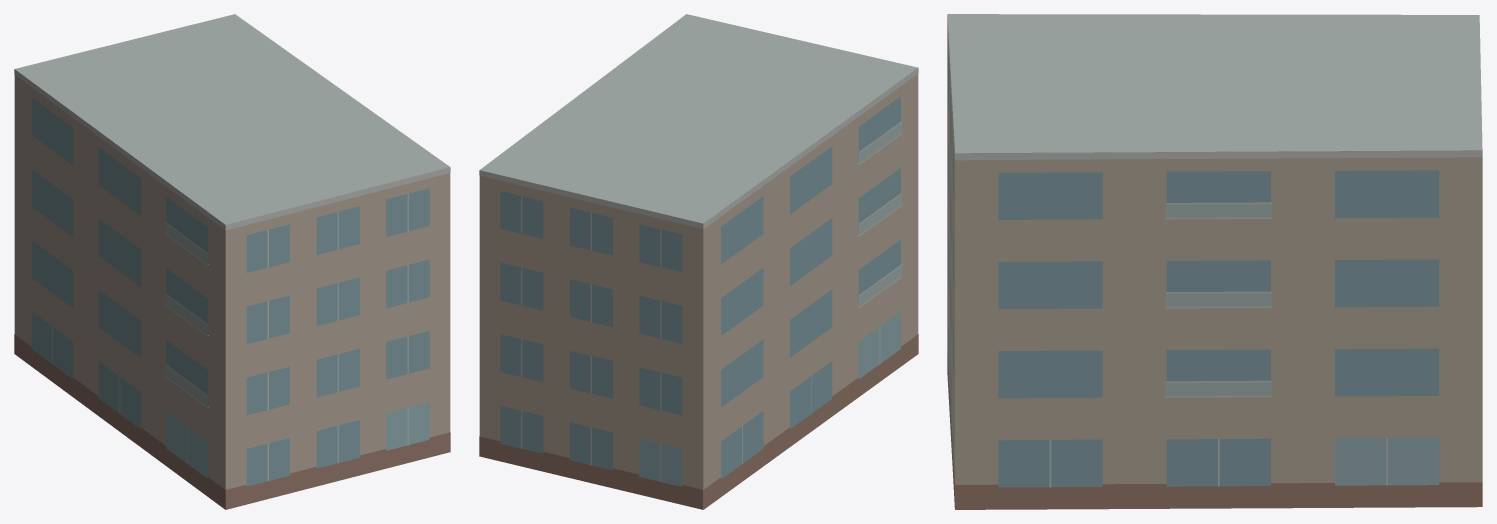
Rendered from survey-upis-33039036.glb.
3 views of the same model, side by side, from view 1: azimuth 30°, elevation 25°; view 2: azimuth 150°, elevation 25°; view 3: azimuth 270°, elevation 25° (orthographic). The views are drawn at different scales.
Parts seen in each view (by area): view 1: survey-upis-33039036.tmp; view 2: survey-upis-33039036.tmp; view 3: survey-upis-33039036.tmp.
Boxes of the visible parts, x1,y1,x2,y2 form: survey-upis-33039036.tmp: (14,14,450,509); survey-upis-33039036.tmp: (479,14,918,509); survey-upis-33039036.tmp: (947,14,1482,509).
Bounding box in the file's own units: 10.42 × 12.4 × 16.87.
